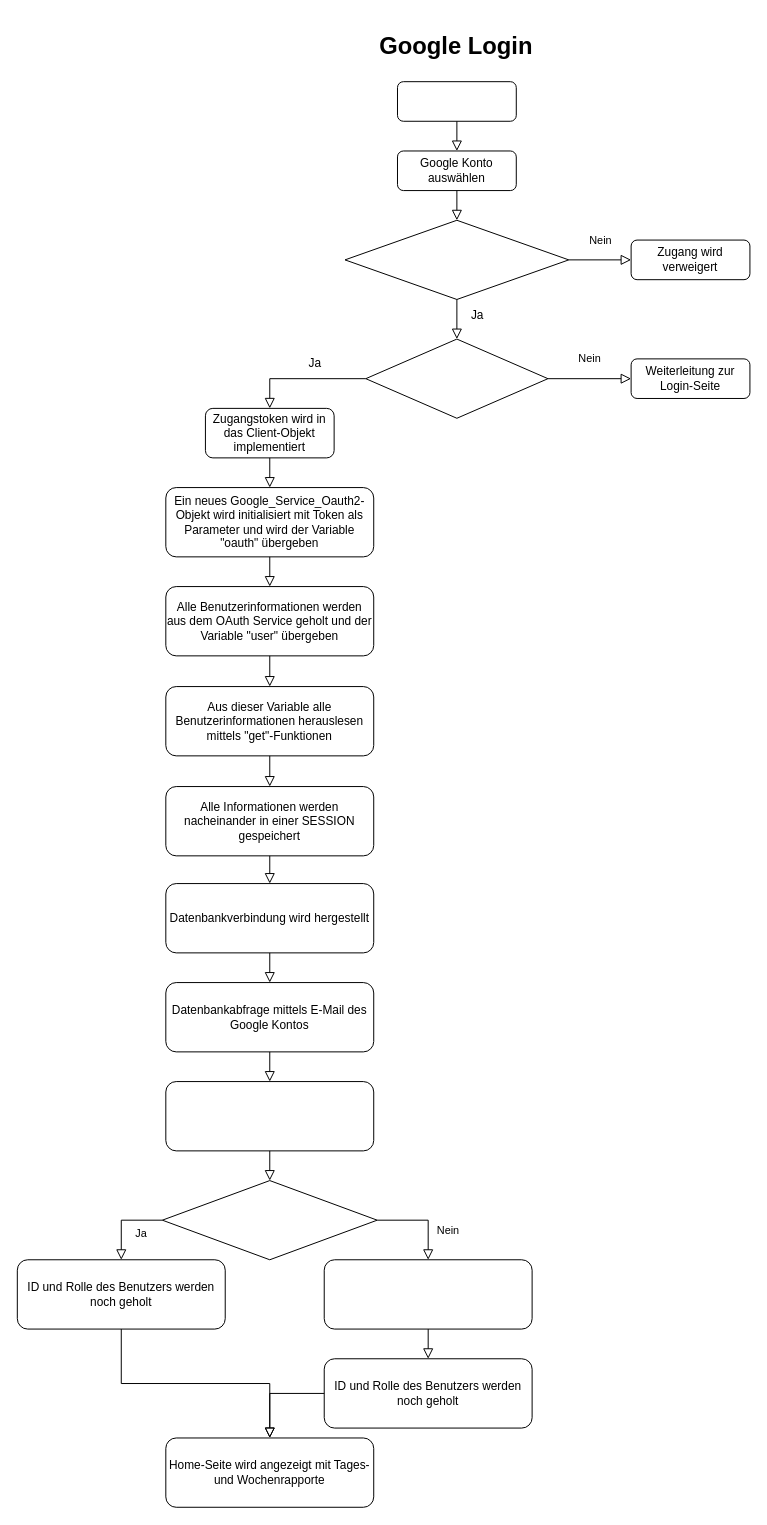
Image size: 767x1525. Some labels were removed from this diagram. The centre of each missing label's shape, as x and y in pixels:
Alle Informationen des Benutzers werden in SESSIONS gespeichert: point 269,1116
Benutzer klickt auf Login: point 456,101
Benutzerinformationen werde der Datenbank hinzugefügt: point 427,1294
Existiert der Benutzer in der Datenbank?: point 269,1220
Gehört der Google User der Organisation an?: point 456,259
Hat der Benutzer schon einen Zugangstoken?: point 456,378
